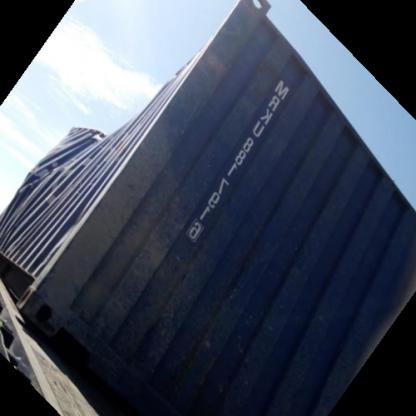Damage: (9, 127, 99, 224)
